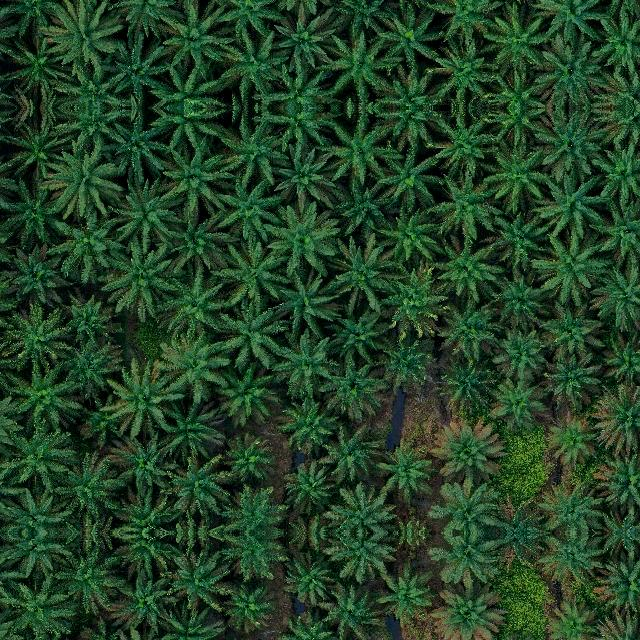Kelapa_Sawit: (51, 205, 128, 286), (155, 137, 235, 214), (155, 1, 235, 78), (528, 232, 610, 307), (48, 141, 122, 224), (428, 414, 506, 489), (323, 115, 404, 187), (323, 27, 404, 99), (264, 138, 340, 214), (264, 0, 340, 76), (106, 361, 183, 436), (105, 239, 182, 312), (111, 173, 184, 249), (48, 0, 122, 73), (54, 330, 124, 407), (266, 204, 338, 275), (0, 179, 72, 249), (217, 114, 285, 188), (217, 26, 285, 100), (428, 576, 506, 640), (536, 168, 608, 237), (153, 394, 227, 461), (101, 111, 171, 180), (101, 35, 171, 104), (484, 143, 551, 215), (161, 331, 230, 400), (429, 174, 499, 242), (326, 241, 397, 308), (483, 0, 550, 71), (1, 426, 75, 490), (1, 575, 75, 639), (426, 117, 501, 179), (426, 35, 501, 97), (57, 451, 126, 518), (110, 431, 179, 498), (322, 354, 389, 423), (380, 268, 447, 337), (57, 548, 126, 615), (110, 568, 179, 635), (377, 143, 446, 209), (377, 5, 446, 71), (329, 177, 397, 243), (165, 451, 235, 515), (165, 550, 235, 614), (223, 240, 289, 307), (274, 328, 339, 396), (12, 365, 77, 432), (436, 295, 501, 362), (535, 114, 606, 175), (535, 40, 606, 101), (5, 305, 71, 370), (432, 237, 500, 300), (318, 421, 384, 485), (6, 119, 73, 182), (6, 33, 73, 96), (164, 275, 229, 336), (318, 580, 384, 640), (4, 246, 67, 307), (218, 177, 282, 237), (541, 351, 605, 410), (273, 273, 338, 331), (164, 211, 224, 273), (57, 292, 121, 350), (541, 303, 607, 358), (490, 207, 549, 268), (279, 395, 338, 456), (220, 304, 279, 365), (490, 269, 548, 330), (437, 357, 496, 416), (280, 456, 338, 516), (280, 549, 338, 609), (488, 375, 549, 432), (379, 334, 435, 396), (217, 361, 272, 423), (326, 484, 397, 532), (326, 533, 397, 581), (593, 383, 640, 455), (380, 206, 439, 263), (536, 0, 608, 46), (433, 480, 496, 532), (433, 533, 496, 585), (377, 443, 437, 497), (377, 568, 437, 622), (540, 479, 601, 532), (540, 534, 601, 587), (328, 307, 386, 362), (491, 326, 550, 380), (546, 412, 601, 469), (110, 0, 183, 41), (219, 487, 285, 532), (219, 534, 285, 579), (157, 107, 226, 149), (157, 65, 226, 107), (220, 430, 273, 484), (220, 581, 273, 635), (429, 0, 499, 40), (153, 604, 227, 640), (7, 488, 66, 532), (7, 533, 66, 577), (0, 0, 72, 35), (329, 0, 397, 37), (58, 108, 123, 146), (58, 68, 123, 106), (80, 393, 127, 445), (599, 266, 639, 327), (545, 596, 600, 640), (599, 455, 640, 514), (599, 552, 640, 611), (218, 0, 282, 37), (274, 107, 331, 148), (274, 67, 331, 108), (384, 107, 443, 146), (384, 69, 443, 108), (115, 496, 174, 533), (115, 533, 174, 570), (607, 202, 640, 262), (601, 148, 640, 197), (601, 18, 640, 67), (492, 108, 549, 141), (492, 74, 549, 107), (278, 609, 337, 640), (597, 107, 640, 145), (597, 69, 640, 107), (605, 341, 639, 384), (592, 610, 639, 640), (79, 620, 126, 640), (606, 0, 639, 12)
